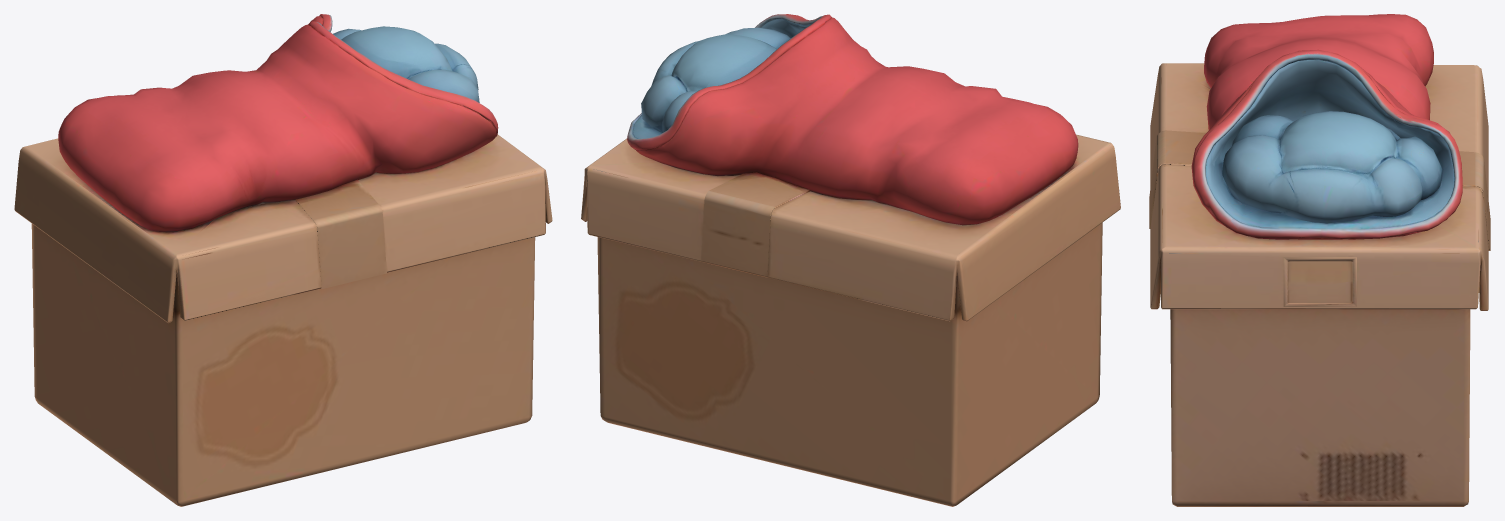
3 views of the same model, side by side, from view 1: azimuth 30°, elevation 25°; view 2: azimuth 150°, elevation 25°; view 3: azimuth 270°, elevation 25° (orthographic). The views are drawn at different scales.
Parts seen in each view (by area): view 1: tripo_node_bef62e42-bc94-424a-a46e-f058cf22ff29; view 2: tripo_node_bef62e42-bc94-424a-a46e-f058cf22ff29; view 3: tripo_node_bef62e42-bc94-424a-a46e-f058cf22ff29.
Boxes of the visible parts, box(x1,y1,x2,y2) form: tripo_node_bef62e42-bc94-424a-a46e-f058cf22ff29: box(14, 14, 552, 506); tripo_node_bef62e42-bc94-424a-a46e-f058cf22ff29: box(581, 14, 1120, 506); tripo_node_bef62e42-bc94-424a-a46e-f058cf22ff29: box(1149, 14, 1490, 506).
Size of the model in its own units: 0.998 by 0.9355 by 0.7441.
Materials: 1 (1 with a texture image).
